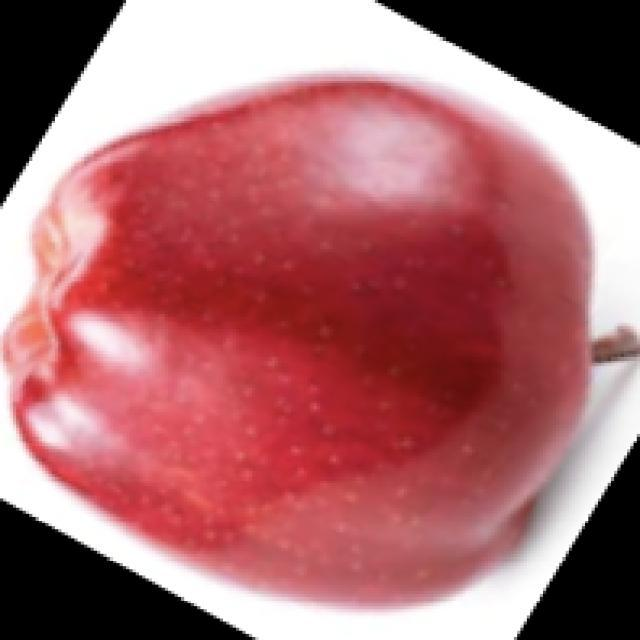Apple: (2, 71, 600, 608)
